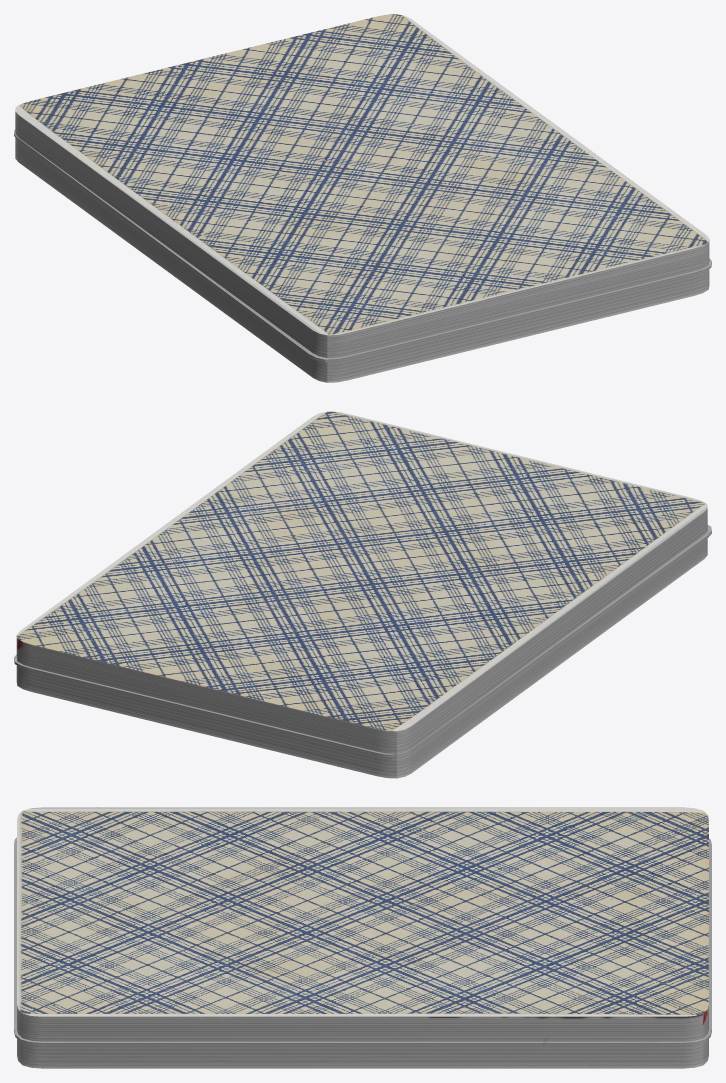
Rendered from Mazo.obj.
3 renders of one model, top to bottom at view 1: azimuth 30°, elevation 25°; view 2: azimuth 150°, elevation 25°; view 3: azimuth 270°, elevation 25°, orthographic. The views are drawn at different scales.
Visible parts, largest first — view 1: wavefront obj; view 2: wavefront obj; view 3: wavefront obj.
Boxes of the visible parts, box(x1,y1,x2,y2) form: wavefront obj: box(14, 14, 711, 382); wavefront obj: box(14, 411, 711, 778); wavefront obj: box(14, 807, 711, 1068).
Size of the model in its own units: 0.064 by 0.00727 by 0.0888.
Materials: 1 (1 with a texture image).
